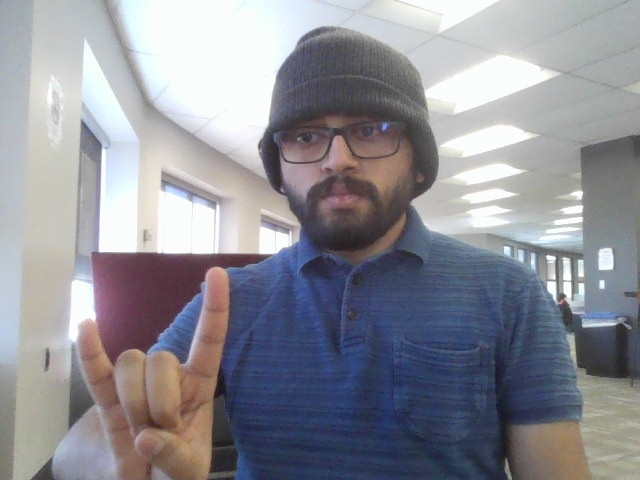help: (68, 255, 299, 480)
